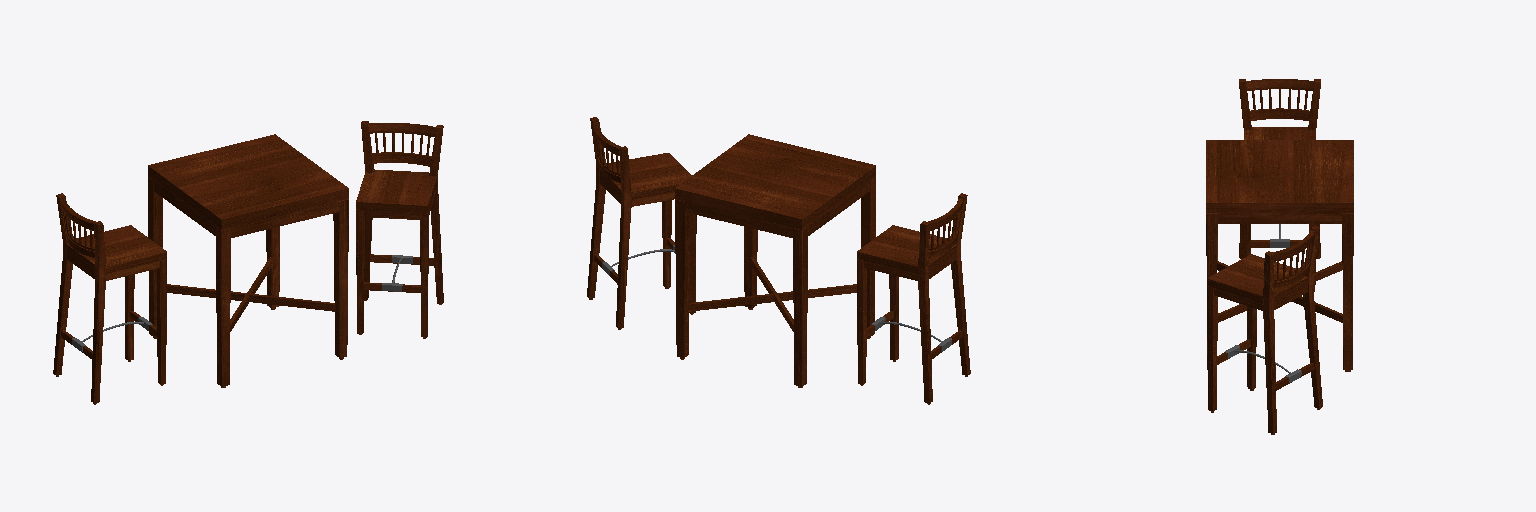
3 renders of one model, left to right at view 1: azimuth 30°, elevation 25°; view 2: azimuth 150°, elevation 25°; view 3: azimuth 270°, elevation 25°, orthographic.
Parts seen in each view (by area): view 1: table_Cube, wood_stool_Cube.001, wood_stool.001_Cube.003, stool_support2_Cube.006, stool_support_Cube.005; view 2: table_Cube, wood_stool_Cube.001, wood_stool.001_Cube.003, stool_support_Cube.005, stool_support2_Cube.006; view 3: table_Cube, wood_stool.001_Cube.003, wood_stool_Cube.001, stool_support_Cube.005, stool_support2_Cube.006.
Part boxes in pixels (left/top/right/bottom): table_Cube: left=148, top=134, right=348, bottom=387; wood_stool_Cube.001: left=53, top=193, right=166, bottom=404; wood_stool.001_Cube.003: left=356, top=121, right=443, bottom=338; stool_support2_Cube.006: left=368, top=123, right=435, bottom=166; stool_support_Cube.005: left=61, top=198, right=95, bottom=257; table_Cube: left=675, top=134, right=875, bottom=387; wood_stool_Cube.001: left=857, top=193, right=970, bottom=404; wood_stool.001_Cube.003: left=587, top=117, right=696, bottom=329; stool_support_Cube.005: left=928, top=198, right=962, bottom=257; stool_support2_Cube.006: left=594, top=121, right=620, bottom=182; table_Cube: left=1206, top=140, right=1353, bottom=371; wood_stool.001_Cube.003: left=1207, top=226, right=1322, bottom=434; wood_stool_Cube.001: left=1239, top=79, right=1320, bottom=291; stool_support_Cube.005: left=1246, top=79, right=1313, bottom=120; stool_support2_Cube.006: left=1272, top=230, right=1314, bottom=288.
Size of the model in its own units: 2.31 by 1.08 by 0.8.
Materials: 3 (1 with a texture image).